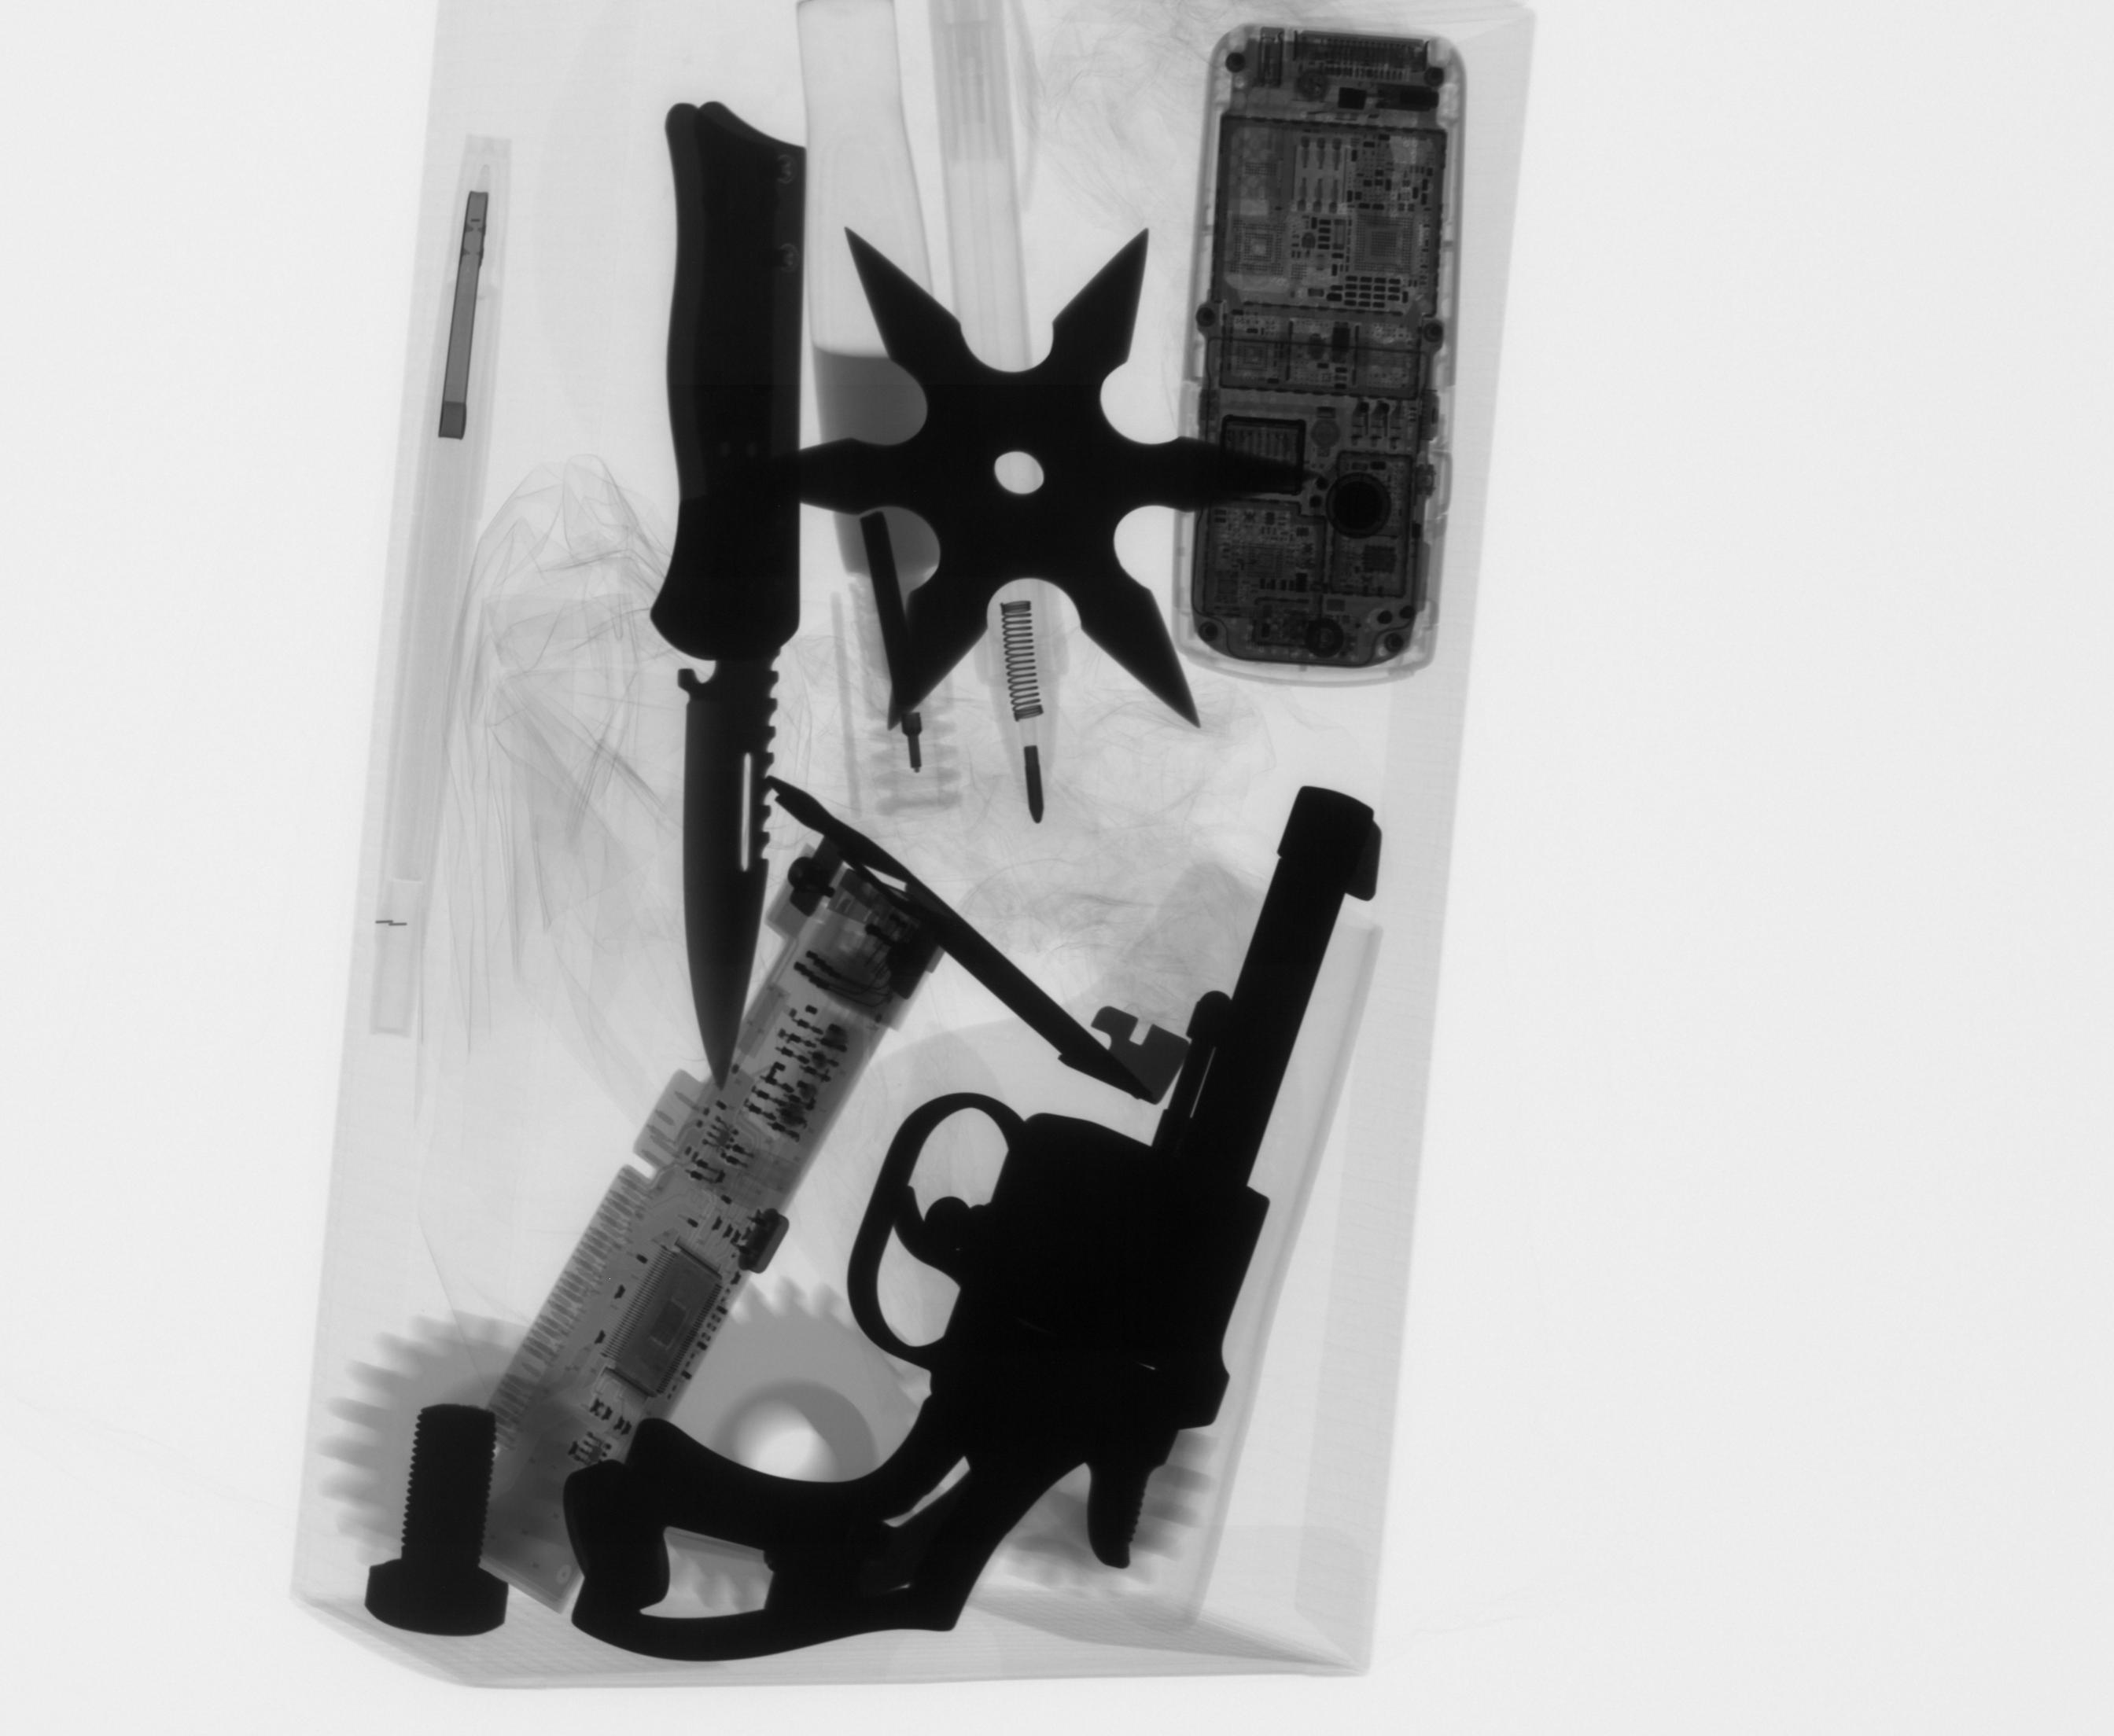Handgun: (555, 772, 1398, 1675)
Knife: (634, 90, 820, 1108)
Shuriken: (725, 219, 1315, 742)
